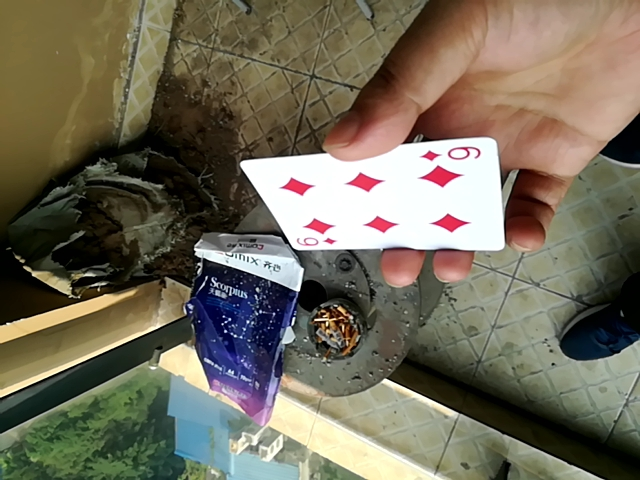fk 6: (242, 139, 507, 250)
